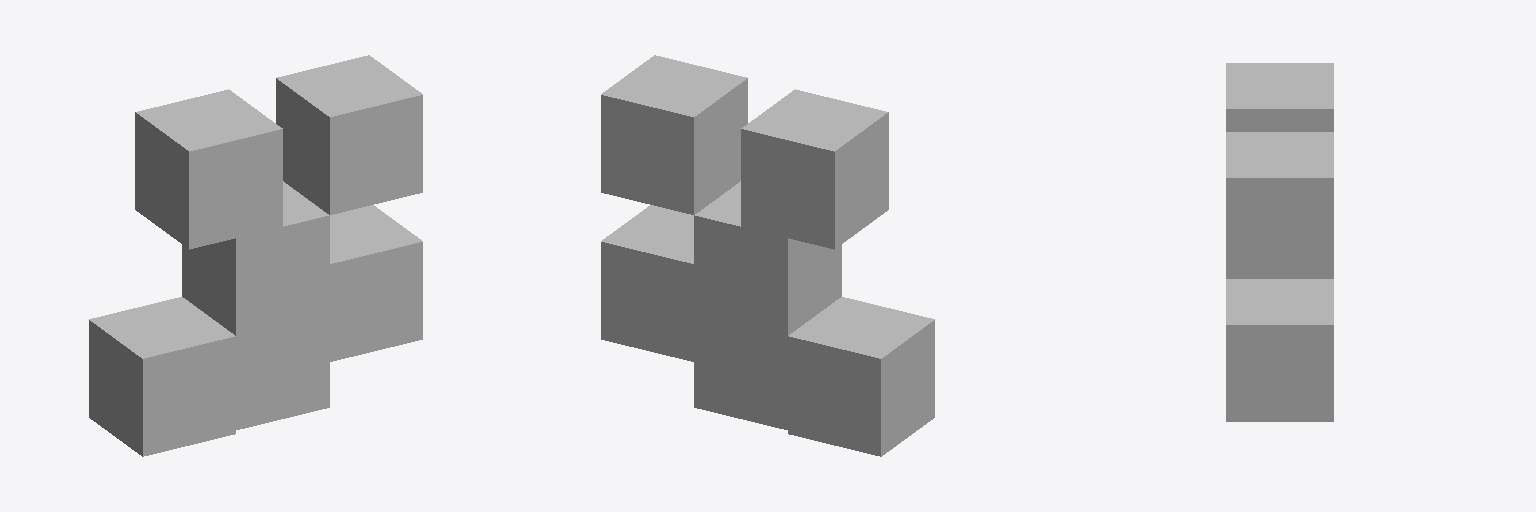
Rendered from fov_test.obj.
3 renders of one model, left to right at view 1: azimuth 30°, elevation 25°; view 2: azimuth 150°, elevation 25°; view 3: azimuth 270°, elevation 25°, orthographic.
Parts seen in each view (by area): view 1: Cube.001; view 2: Cube.001; view 3: Cube.001.
Boxes of the visible parts, x1=… form: Cube.001: x1=89, y1=55, x2=422, y2=456; Cube.001: x1=601, y1=55, x2=934, y2=456; Cube.001: x1=1226, y1=63, x2=1333, y2=421.
Bounding box in the file's own units: 6 × 6 × 2.